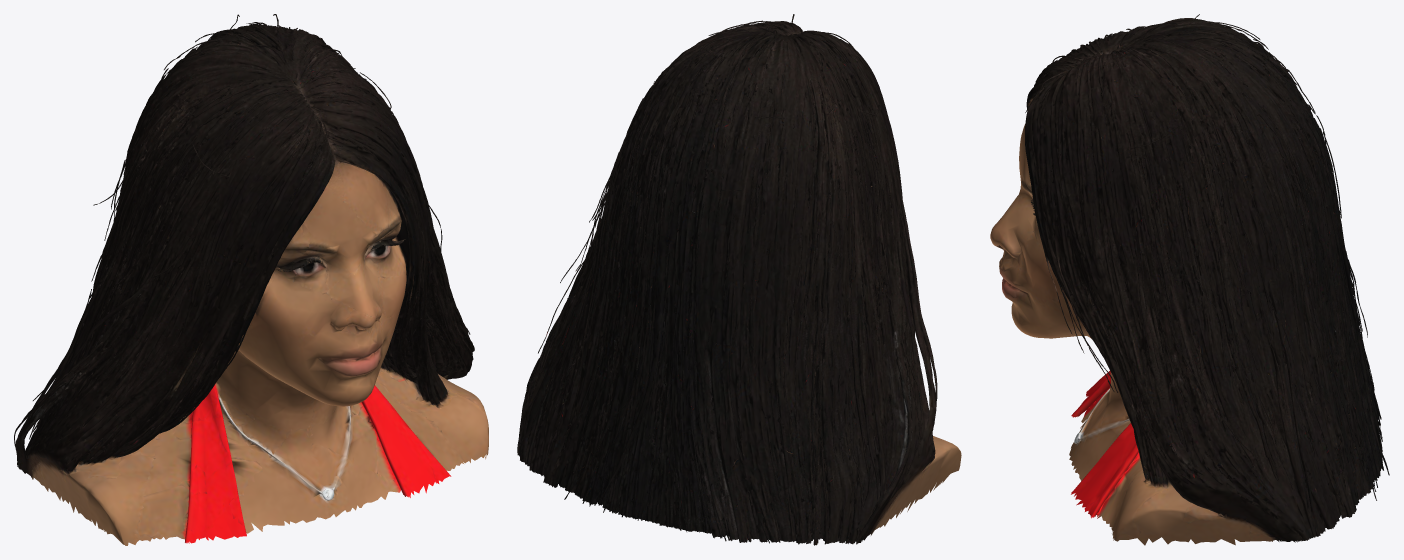
File: toni-braxton-face.glb
3 views of the same model, side by side, from view 1: azimuth 30°, elevation 25°; view 2: azimuth 150°, elevation 25°; view 3: azimuth 270°, elevation 25° (orthographic). The views are drawn at different scales.
Bounding box in the file's own units: 1.41 × 1.46 × 1.22.
1 material, 1 textured.
